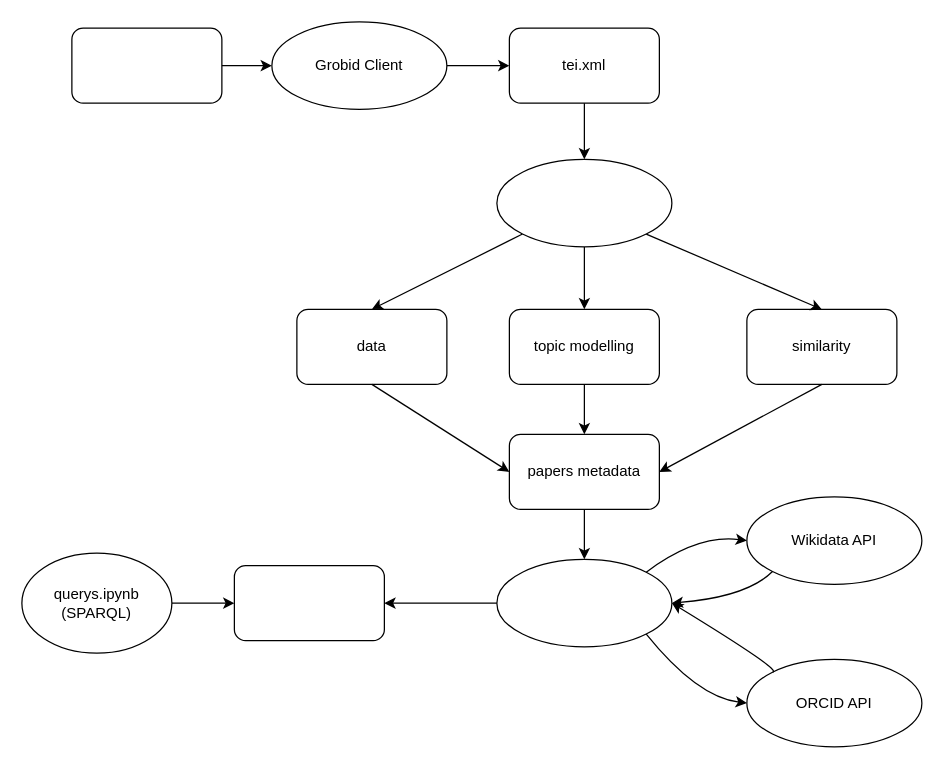
Image size: 944x769. Some labels were removed from this diagram. The shapes that lost their labels are listed below. From the top down, each one's centre as x and y in pixels, then its label:
At pixel 146 65: "Paper".
At pixel 584 202: "modelling.ipynb".
At pixel 308 602: "linked KG".
At pixel 584 602: "dict_to_rdf".
